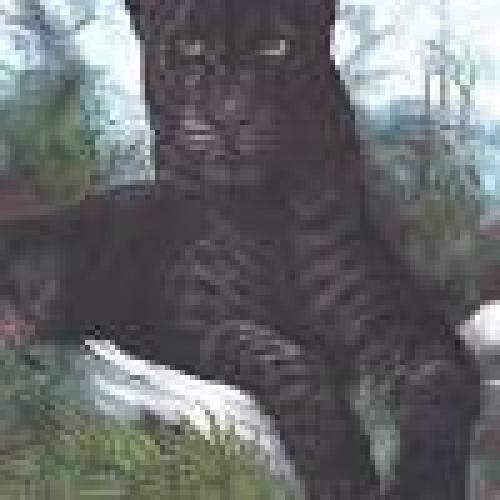panther-endangered: (0, 0, 479, 500)
